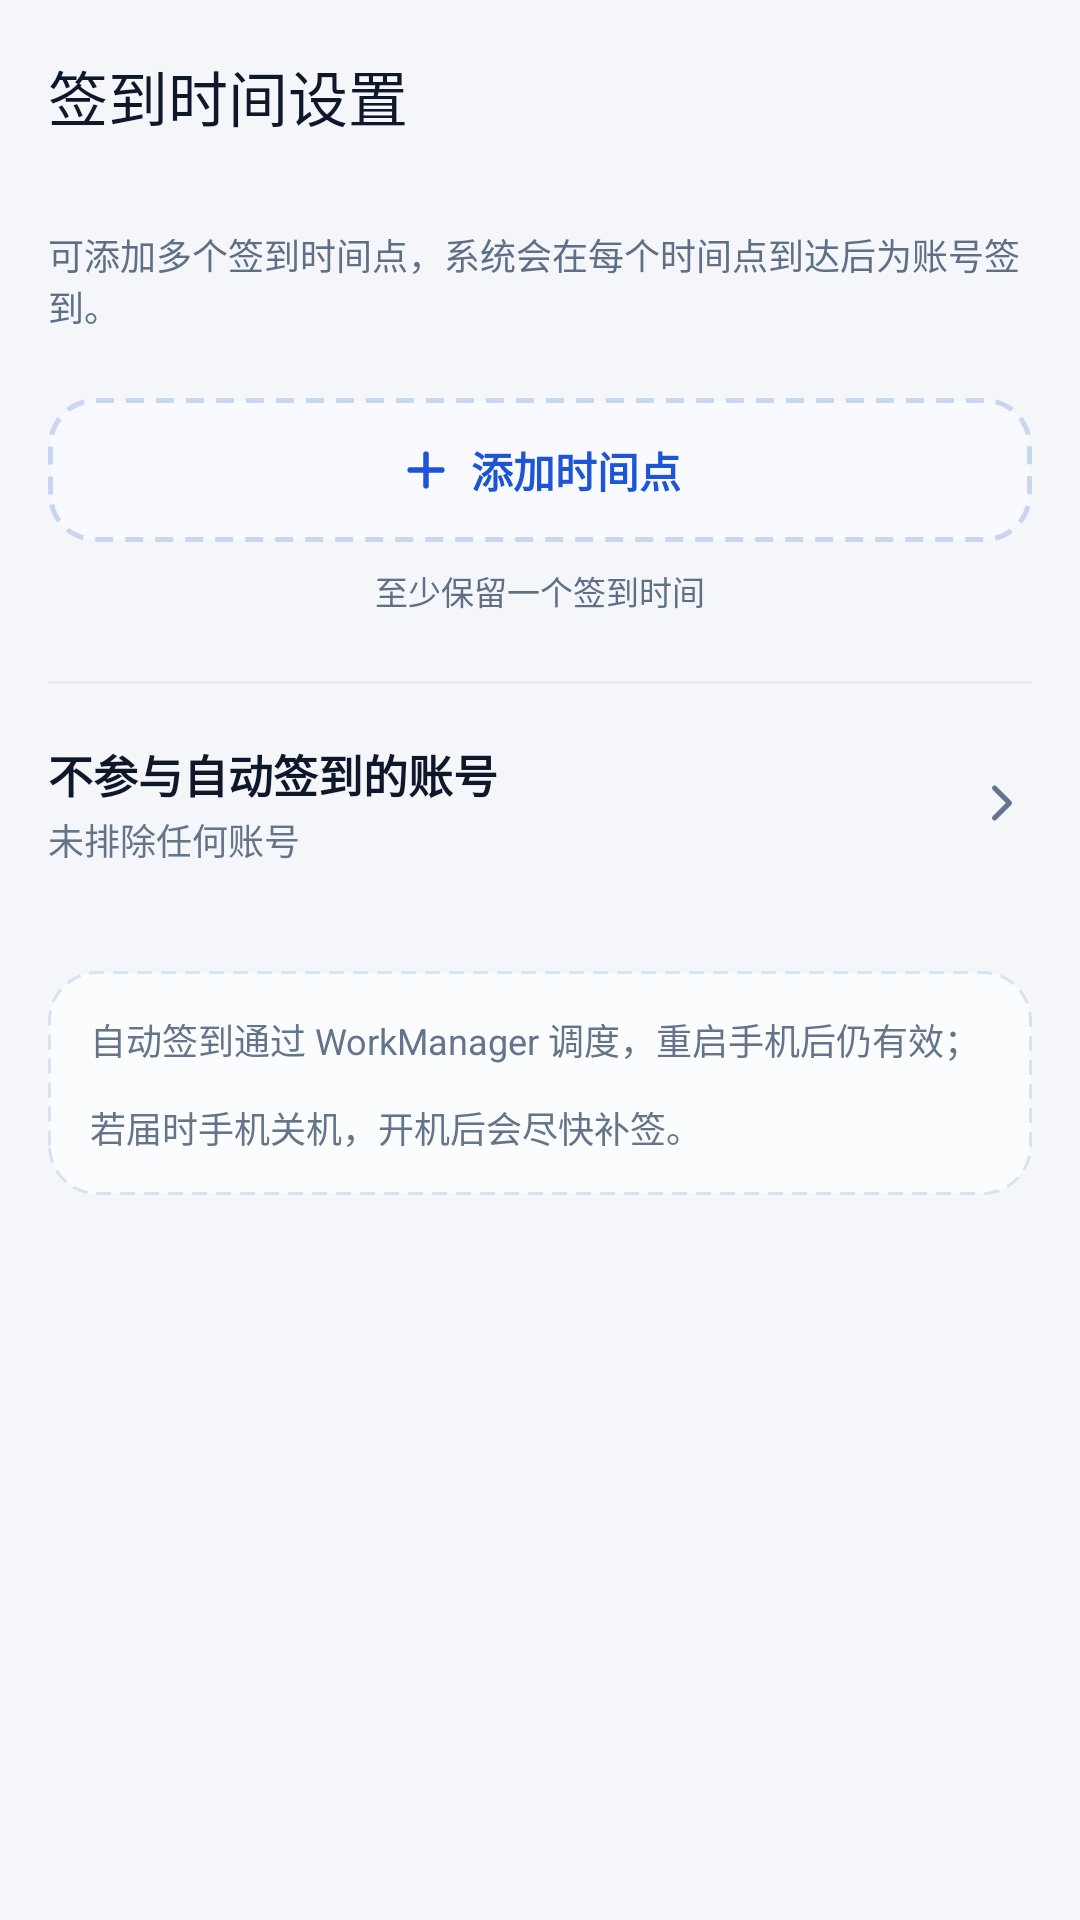

Where to tap for icons on this 1080×1920 app screen, as (x=x, y=y):
arrow right: (x=1002, y=803)
plus: (x=426, y=470)
